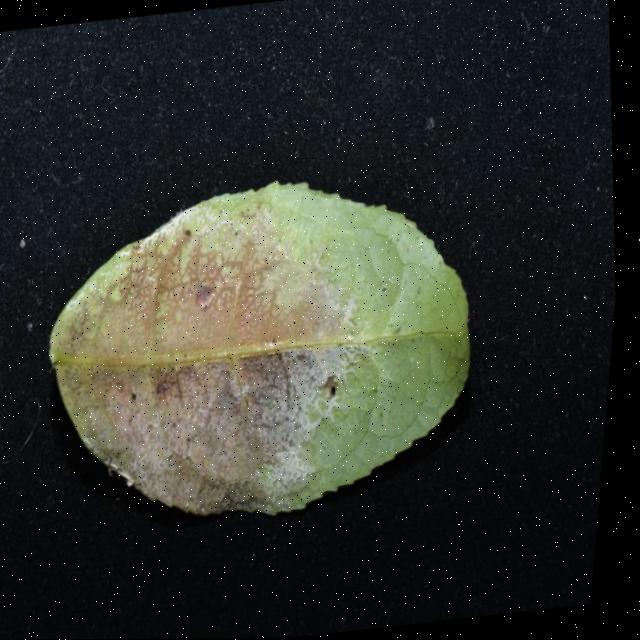Tea exobasidium blight: (51, 209, 377, 524)
